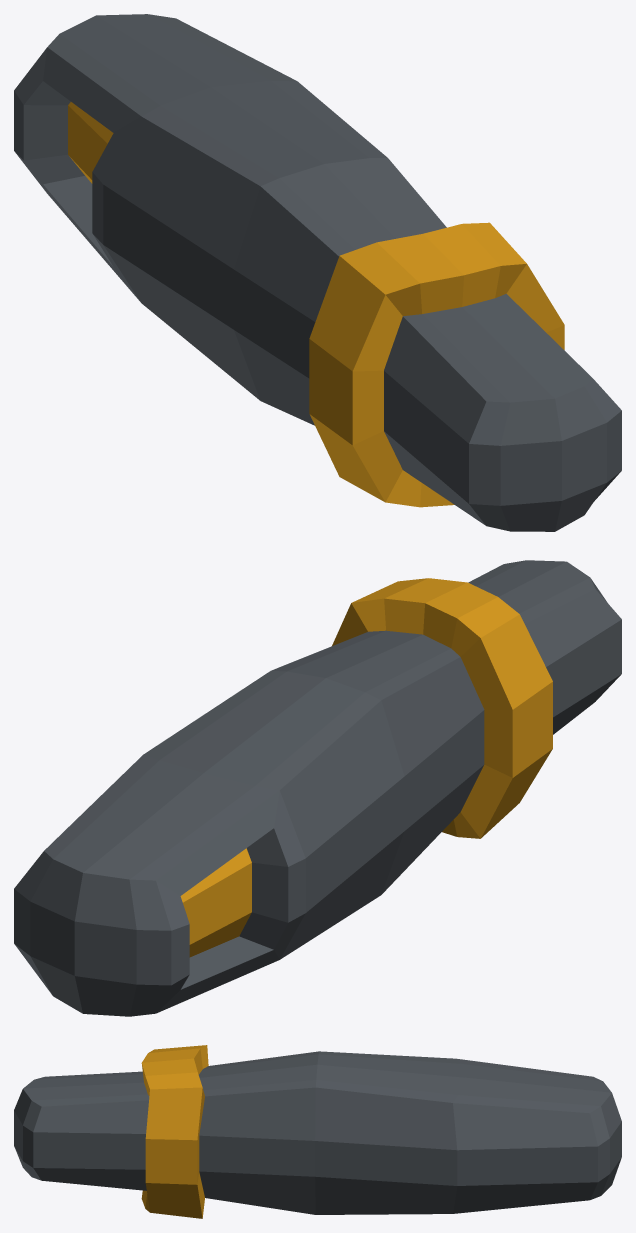
The model's file is Mothership_02_Detail_7_Yellow.fbx.
3 views of the same model, one above another, from view 1: azimuth 30°, elevation 25°; view 2: azimuth 150°, elevation 25°; view 3: azimuth 270°, elevation 25° (orthographic). The views are drawn at different scales.
Visible parts, largest first — view 1: Mothership_02_Detail_7_Yellow; view 2: Mothership_02_Detail_7_Yellow; view 3: Mothership_02_Detail_7_Yellow.
Boxes of the visible parts, x1,y1,x2,y2 form: Mothership_02_Detail_7_Yellow: (14, 14, 621, 531); Mothership_02_Detail_7_Yellow: (14, 560, 621, 1016); Mothership_02_Detail_7_Yellow: (14, 1045, 621, 1218).
Size of the model in its own units: 198 by 202 by 760.
1 material, 1 textured.
